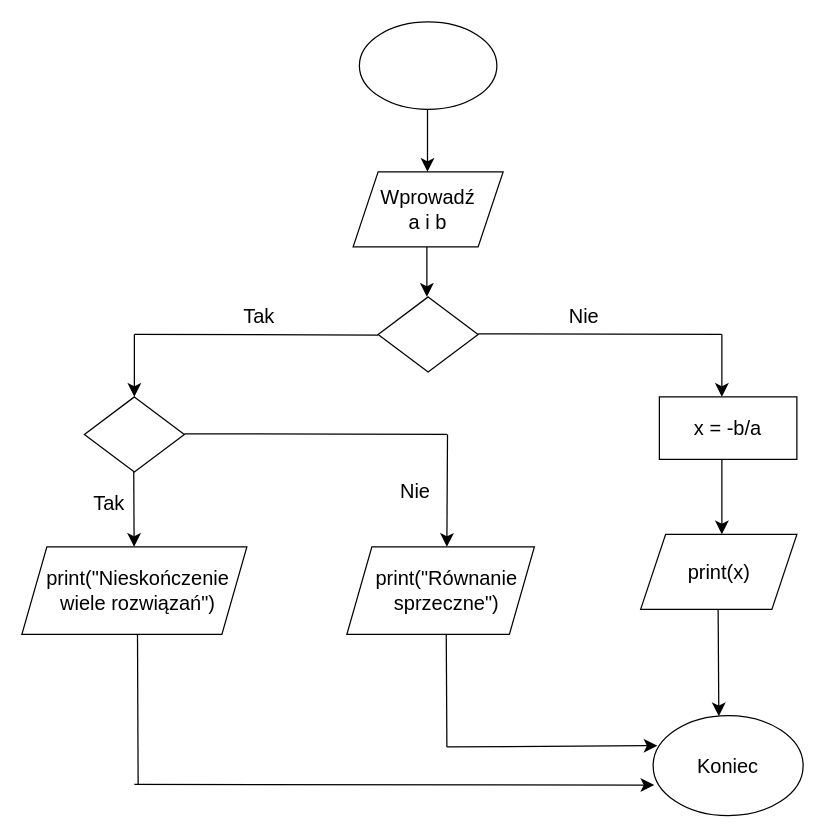
Some shapes in this 825 by 838 pixel diagram are drawn without their labels. Each missing label, with the centre of its shape:
"a = 0?" goes at point 427,334.
"b = 0?" goes at point 133,434.
"Start" goes at point 427,65.
